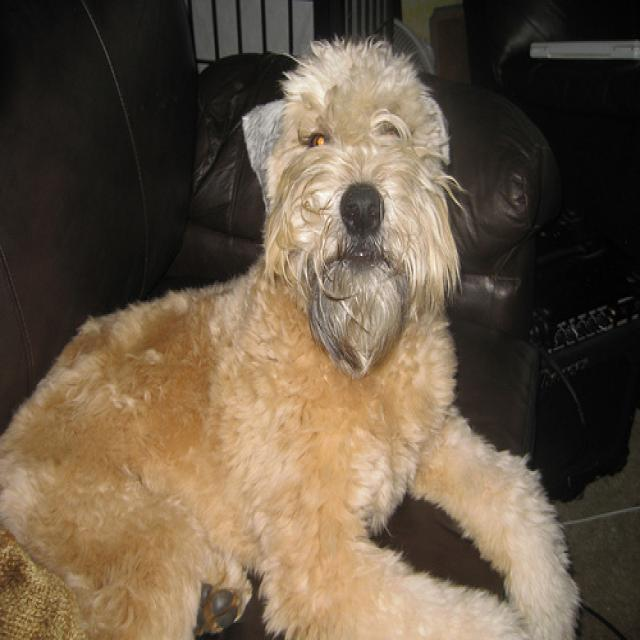dog-wheaten_terrier: (1, 26, 584, 637)
